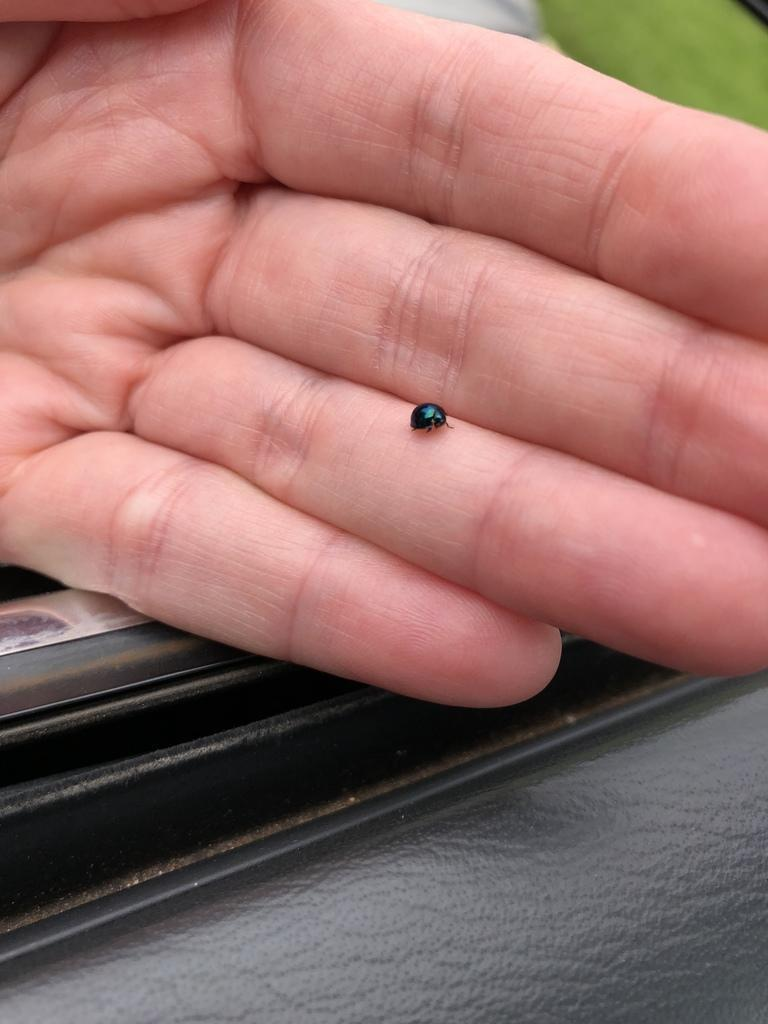ladybug: (406, 396, 456, 444)
